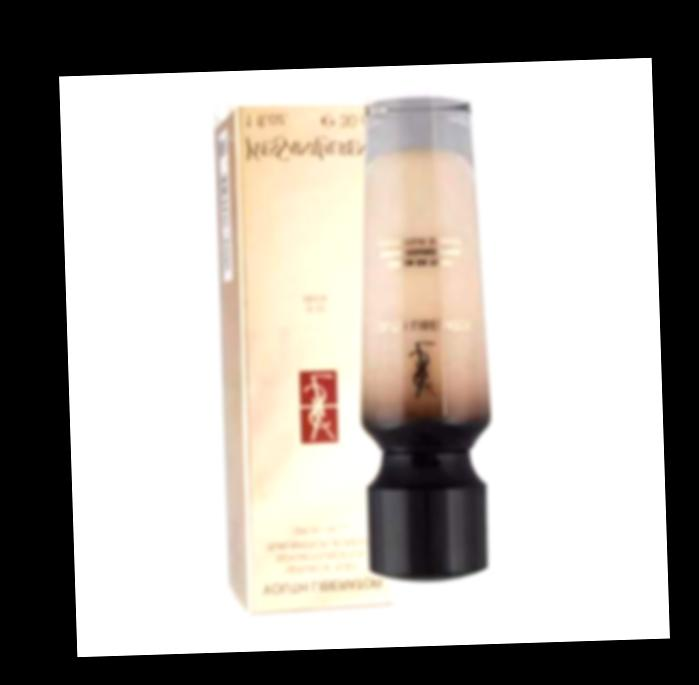cosmetic: (349, 96, 497, 575)
